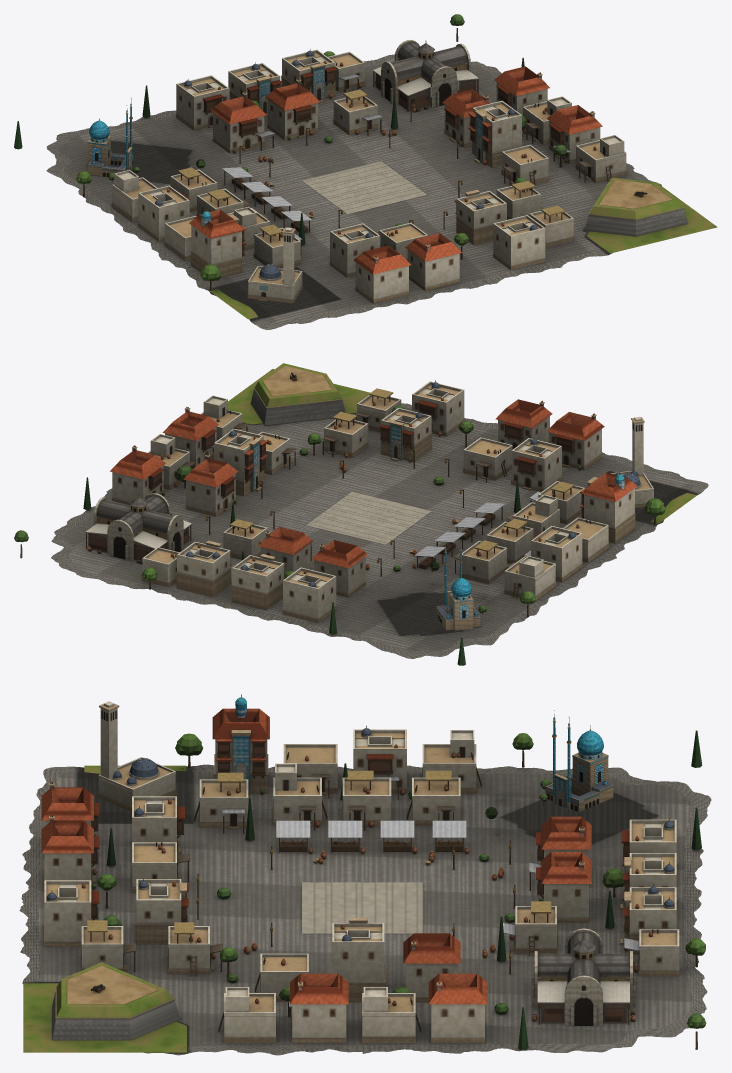
File: gunpowder-town-big-b-levant-8dd3fd14.glb
3 views of the same model, one above another, from view 1: azimuth 30°, elevation 25°; view 2: azimuth 150°, elevation 25°; view 3: azimuth 270°, elevation 25° (orthographic). The views are drawn at different scales.
Parts seen in each view (by area): view 1: LOD0; view 2: LOD0; view 3: LOD0.
Boxes of the visible parts, left/top/right/bottom form: LOD0: left=14, top=14, right=717, bottom=329; LOD0: left=14, top=363, right=708, bottom=665; LOD0: left=19, top=694, right=711, bottom=1055.
Size of what is drawn, in the model's own units: 8.05 by 1.23 by 8.12.
Materials: 3 (3 with a texture image).
